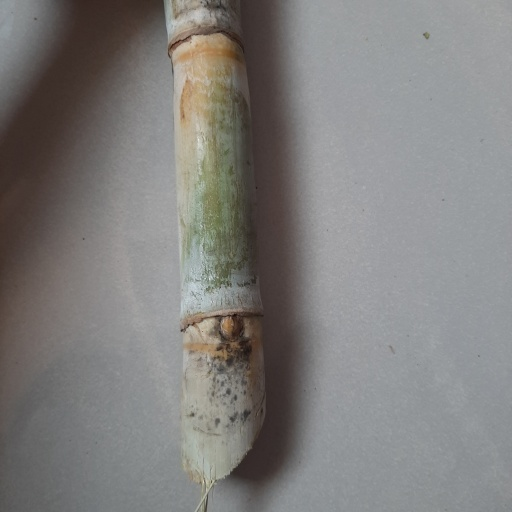Bud: (218, 314, 246, 342)
